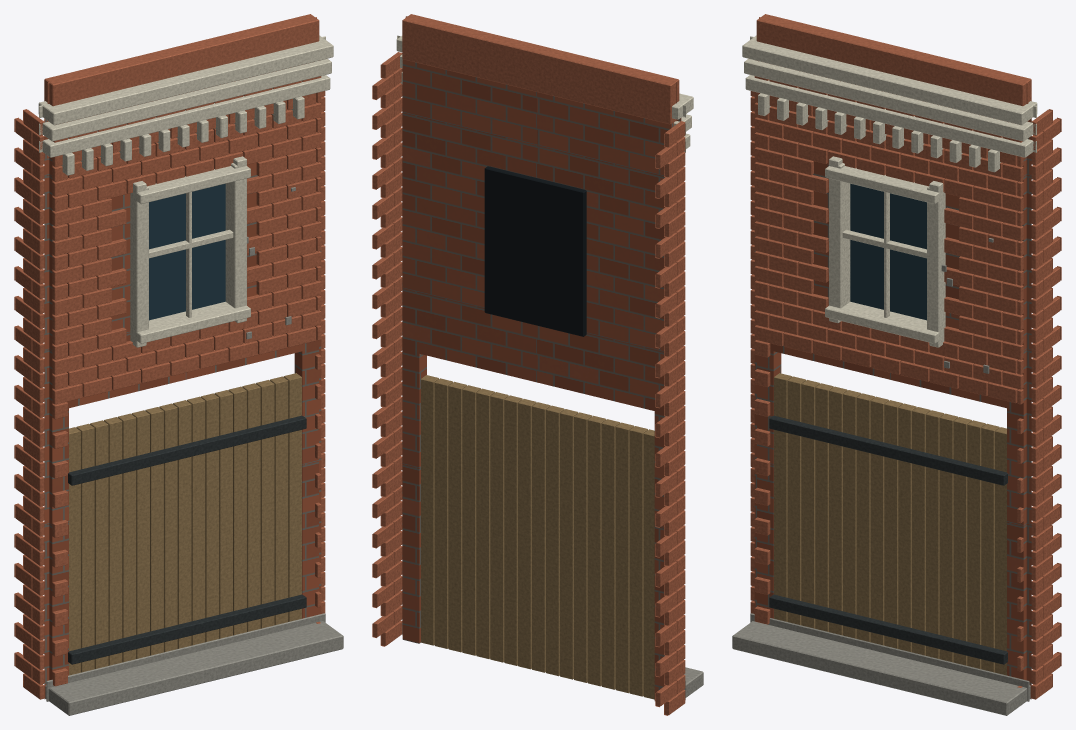
File: VICT15_lod0.glb
3 renders of one model, left to right at view 1: azimuth 30°, elevation 25°; view 2: azimuth 150°, elevation 25°; view 3: azimuth 330°, elevation 25°, orthographic.
Parts seen in each view (by area): view 1: VICT15_FRONT_LOD0; view 2: VICT15_FRONT_LOD0; view 3: VICT15_FRONT_LOD0.
Part boxes in pixels (bbox=[...]): VICT15_FRONT_LOD0: bbox=[14, 14, 343, 715]; VICT15_FRONT_LOD0: bbox=[372, 14, 703, 715]; VICT15_FRONT_LOD0: bbox=[732, 14, 1061, 715].
Bounding box in the file's own units: 3.44 × 7.05 × 1.02.
Materials: 11 (9 with a texture image).
